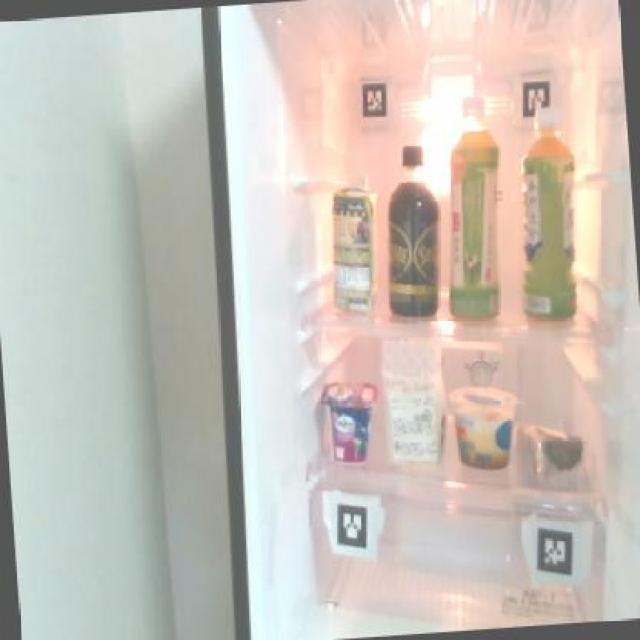bottle: (433, 92, 510, 323), (508, 116, 587, 332)
coffee: (376, 139, 447, 321)
pudding: (448, 380, 518, 474)
rice_ball: (516, 416, 587, 479)
sandwich: (377, 336, 452, 467)
smoothie: (320, 172, 382, 316)
yogurt: (318, 376, 382, 466)
